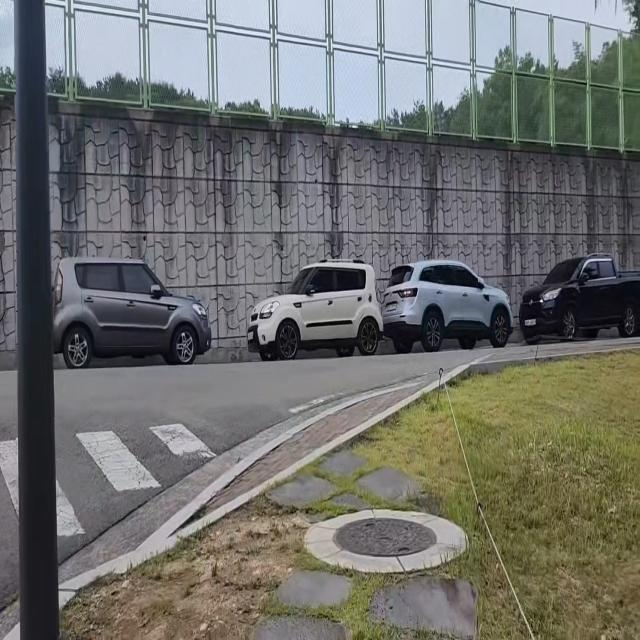obstacle: (14, 0, 60, 640), (55, 252, 223, 376), (243, 250, 386, 372), (382, 249, 519, 357), (512, 244, 640, 345)
road: (0, 357, 472, 640)
sidewalk: (180, 381, 447, 532)
